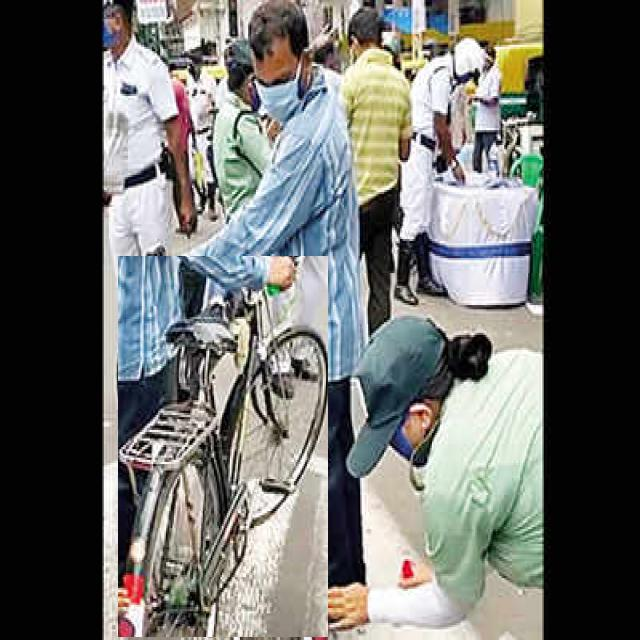bicycle: (118, 256, 328, 637)
